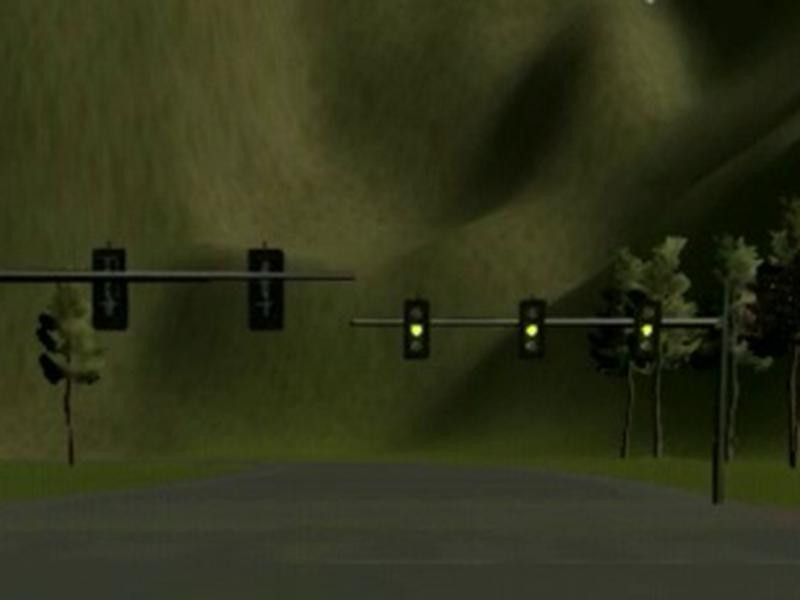Yellow: (403, 299, 431, 361), (635, 302, 661, 360), (519, 301, 544, 361)
